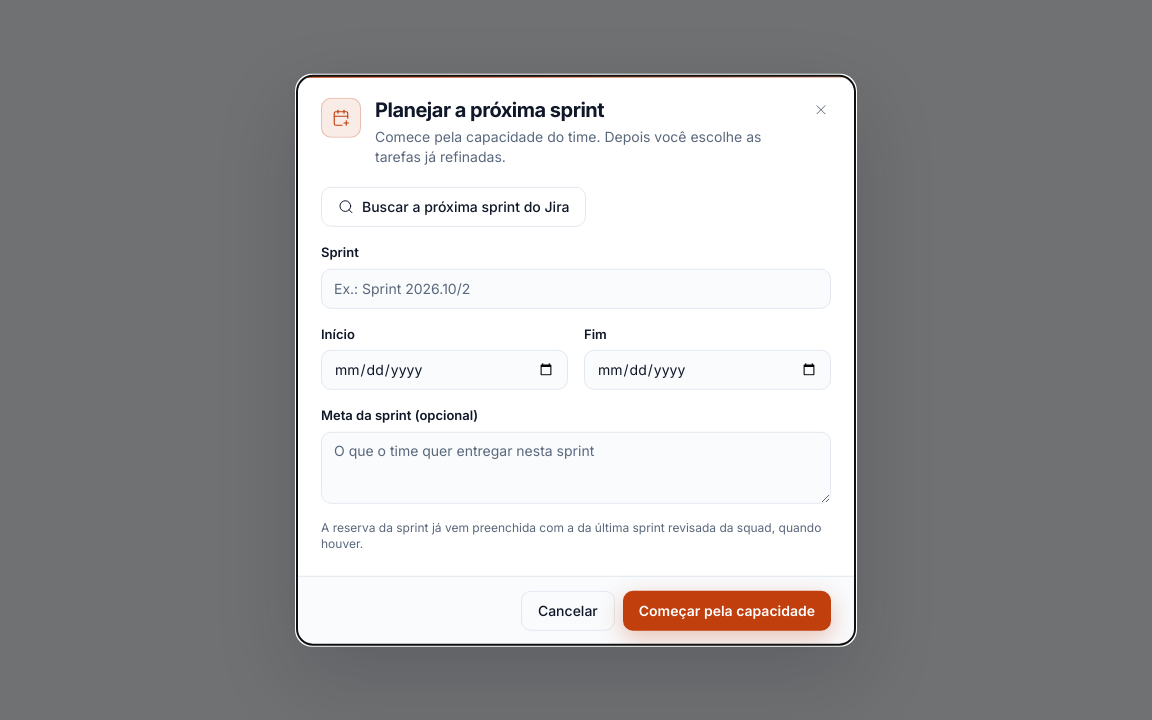
Scenario: Criar plano: próxima sprint do Jira › found=false avisa para preencher à mão e não guarda id
Click the button "Buscar a próxima sprint do Jira": {"x": 454, "y": 207} [321, 187, 586, 227]
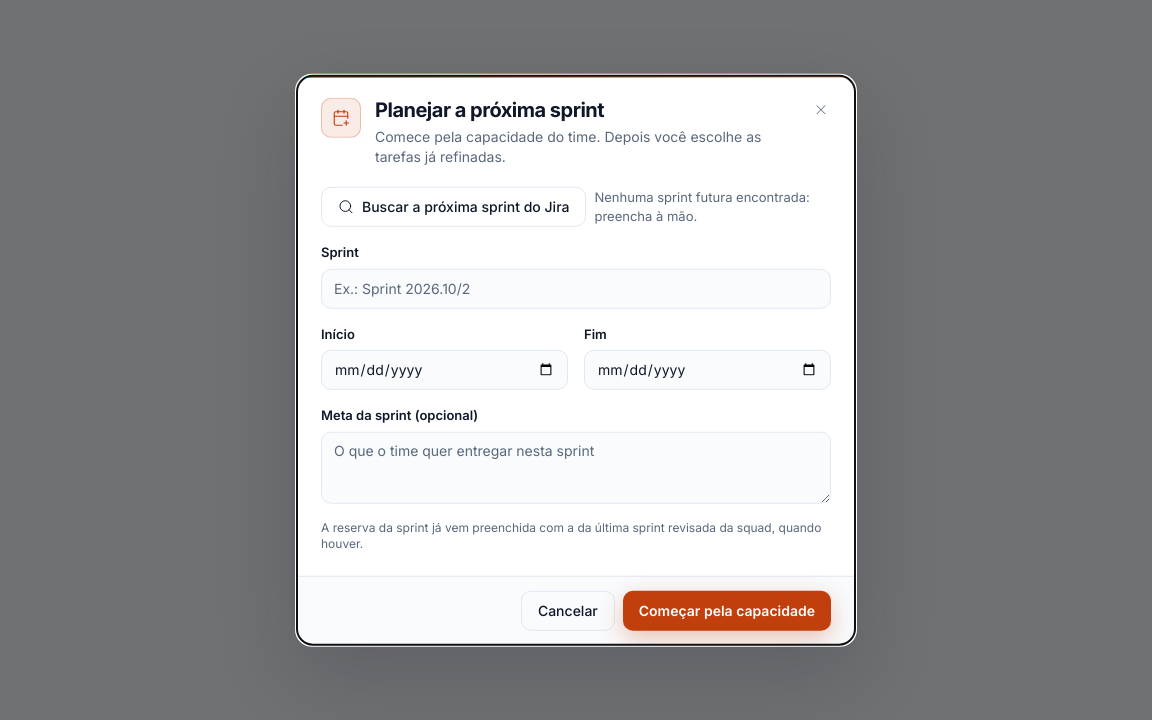
expect the message with test id "proxima-sprint-aviso" reads "Nenhuma sprint futura encontrada: preencha à mão.": met, box [594, 188, 810, 224]
